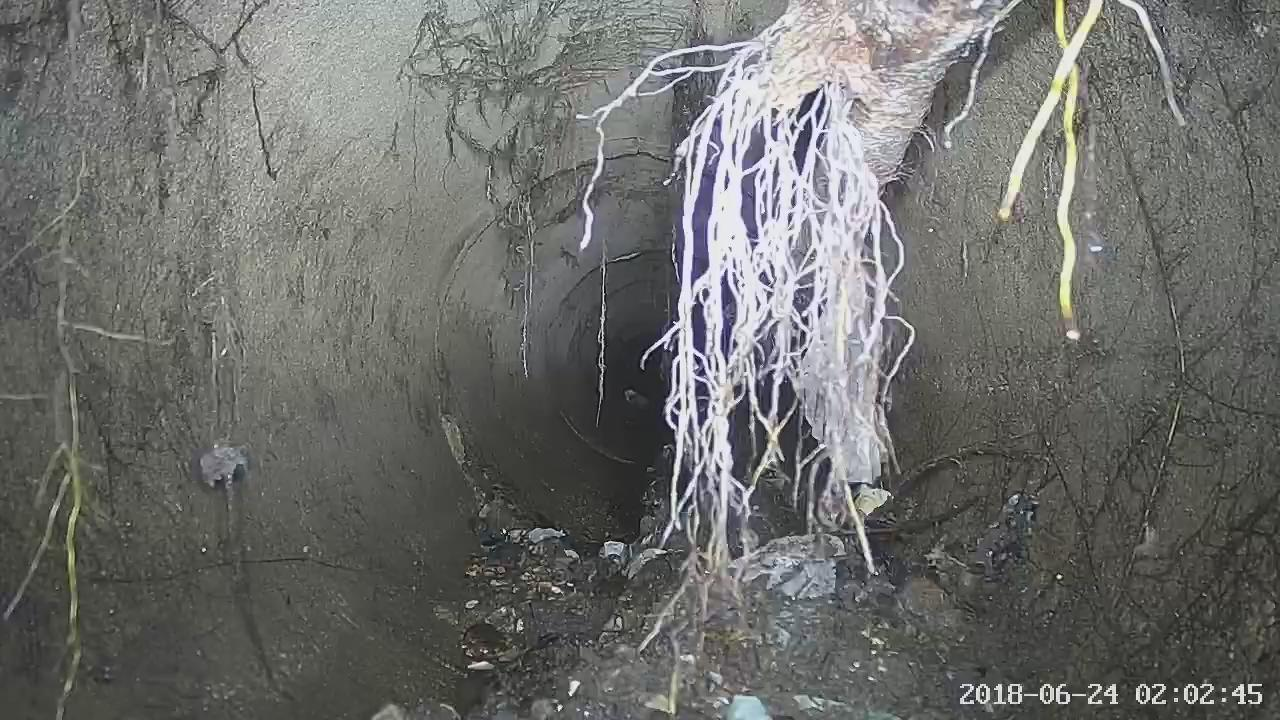CJ: (407, 516, 938, 719)
SG: (397, 0, 1021, 573), (0, 152, 154, 719), (998, 0, 1103, 338)
